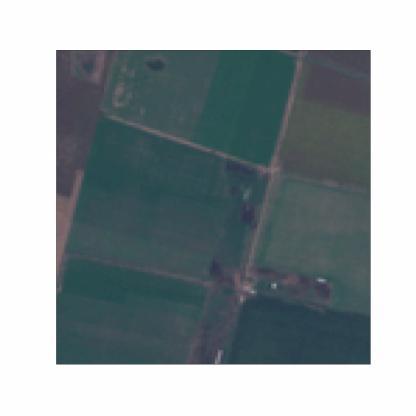silobolsa: (215, 346, 226, 364)
